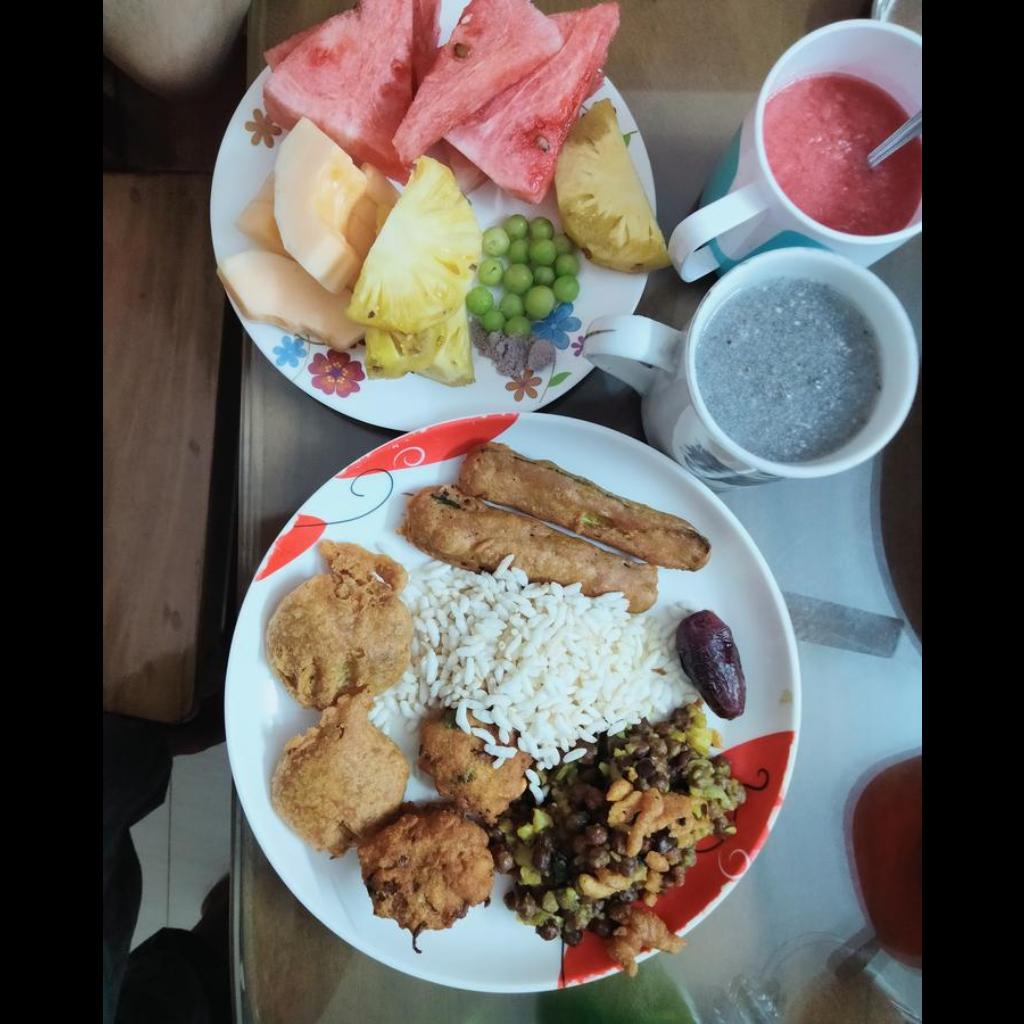beguni: (400, 444, 708, 612)
chola: (504, 715, 736, 939)
chop-alu: (263, 536, 412, 865)
dates: (674, 611, 746, 714)
green-pea: (468, 215, 578, 333)
juice: (703, 275, 881, 460), (763, 74, 920, 236)
peyaju: (357, 730, 501, 936)
pineapple: (357, 161, 483, 385), (554, 100, 666, 272)
puffed-rice: (369, 559, 694, 768)
watermelon: (258, 1, 618, 199), (222, 123, 373, 345)
